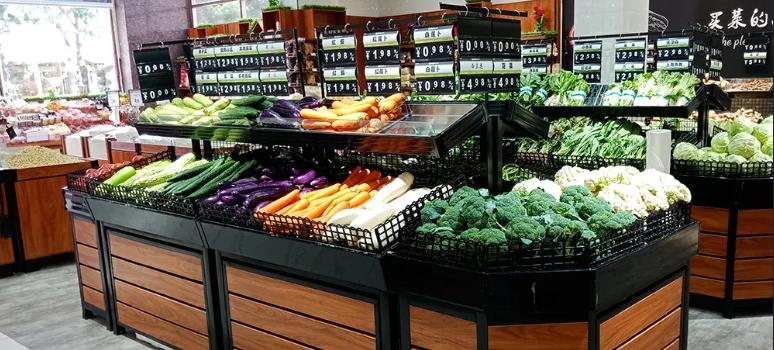cabbage: (674, 114, 774, 173)
carrot: (299, 92, 406, 137), (258, 183, 339, 239), (328, 164, 393, 203)
cucumber: (164, 157, 262, 199), (216, 93, 274, 132)
eggplant: (204, 158, 323, 213), (254, 94, 320, 137)
